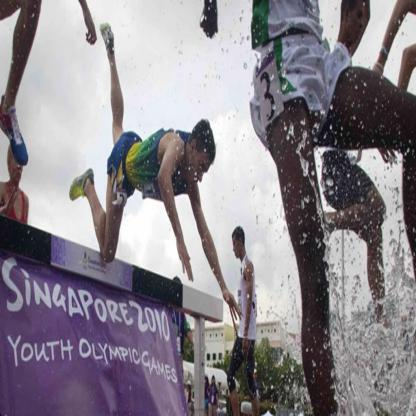face: (188, 153, 210, 187), (12, 150, 24, 182), (233, 238, 241, 256), (213, 379, 216, 385)
